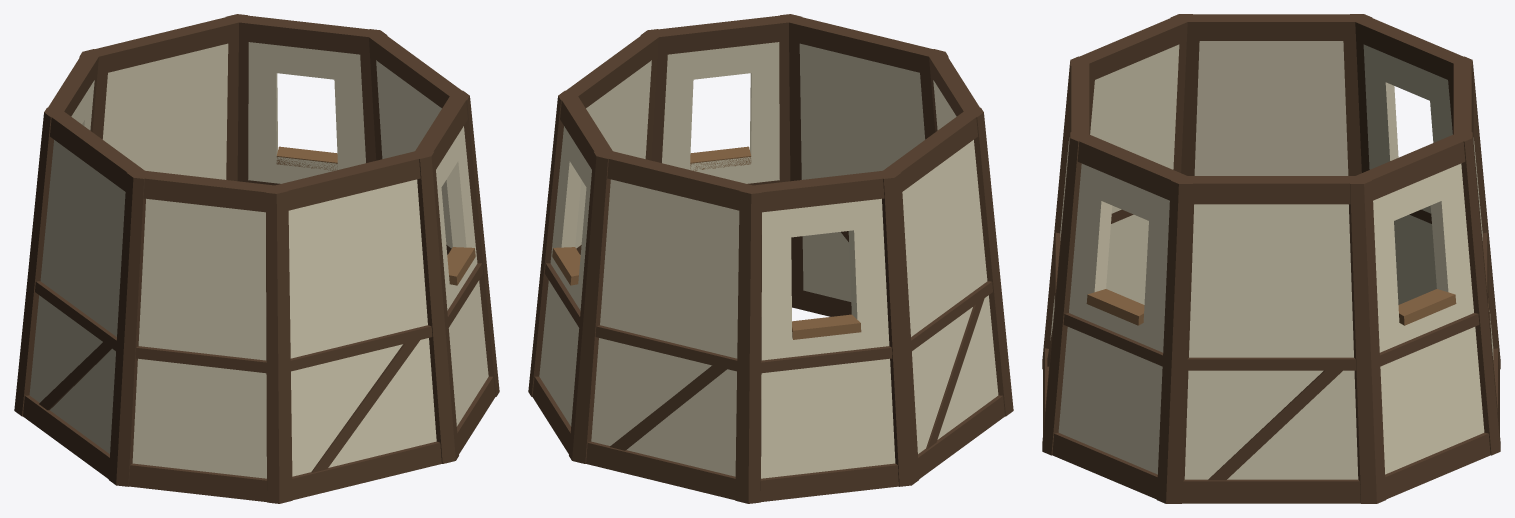
Rendered from smock_storey.glb.
The picture shows the model from 3 angles, left to right: view 1: azimuth 30°, elevation 25°; view 2: azimuth 150°, elevation 25°; view 3: azimuth 270°, elevation 25°; orthographic projection. The views are drawn at different scales.
Visible parts, largest first — view 1: Smock storey; view 2: Smock storey; view 3: Smock storey.
Boxes of the visible parts, x1=… form: Smock storey: x1=14, y1=14, x2=499, y2=503; Smock storey: x1=528, y1=14, x2=1013, y2=503; Smock storey: x1=1042, y1=14, x2=1500, y2=503.
Size of the model in its own units: 2.53 by 1.88 by 2.53.
